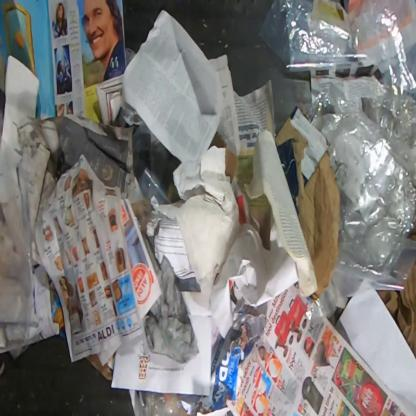cardboard: (276, 119, 342, 300), (377, 255, 415, 357), (208, 132, 240, 182)
soft_plastic: (259, 0, 416, 325), (114, 103, 182, 205), (0, 182, 34, 358), (134, 389, 201, 415)
